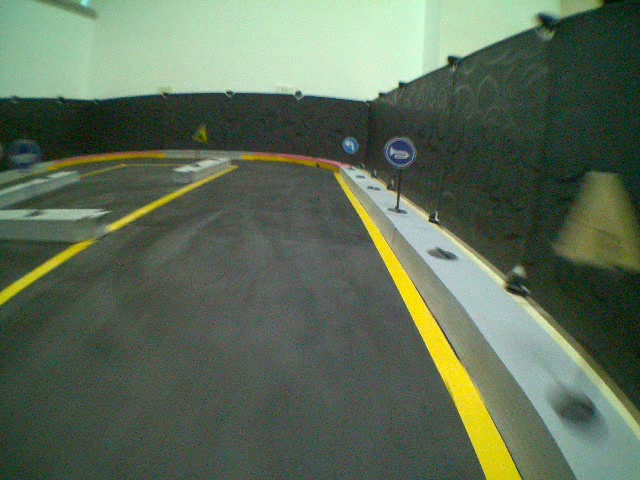fast: (190, 120, 210, 143)
horn: (383, 136, 418, 169)
turn: (342, 134, 360, 155)
